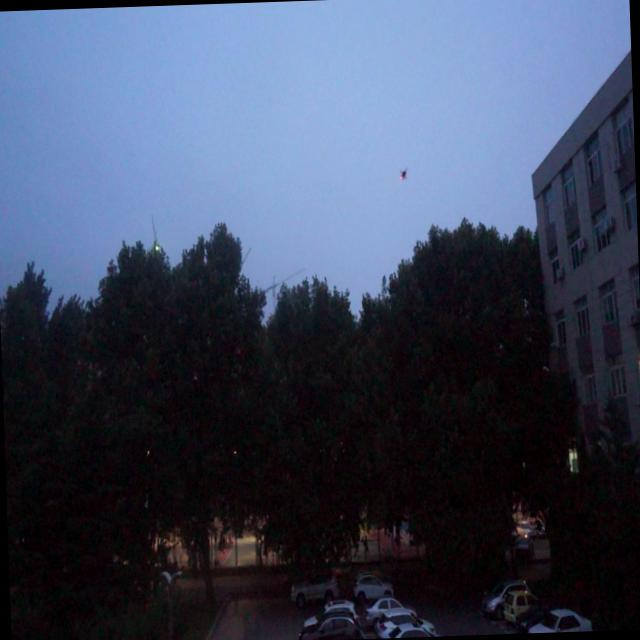drone: (396, 165, 410, 182)
